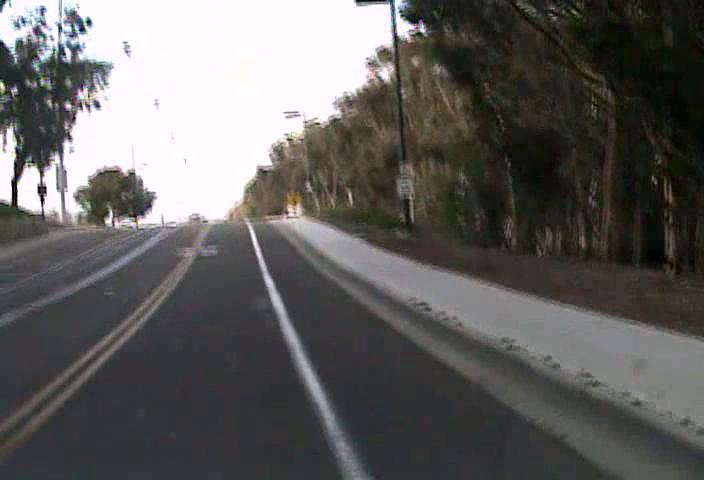speedLimitUrdbl: (395, 175, 414, 198)
